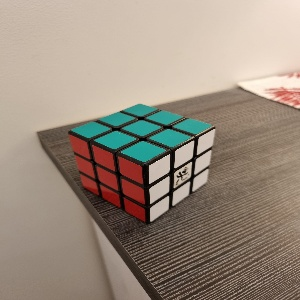cube: (67, 103, 217, 226)
